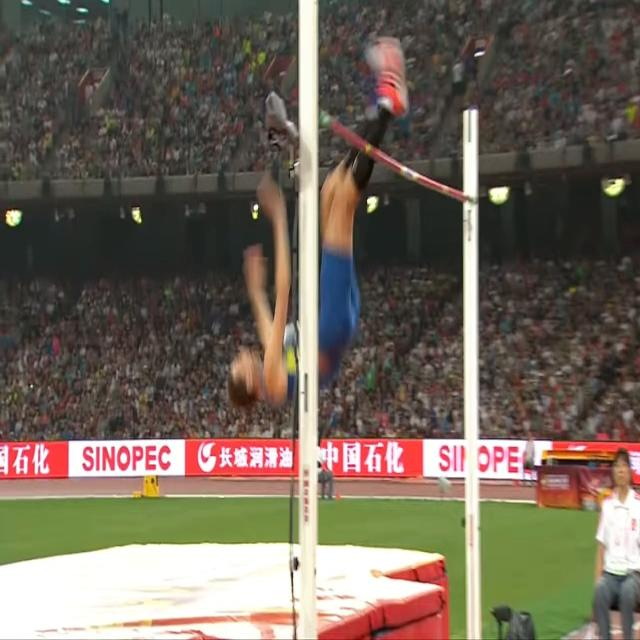land: (229, 32, 409, 404)
